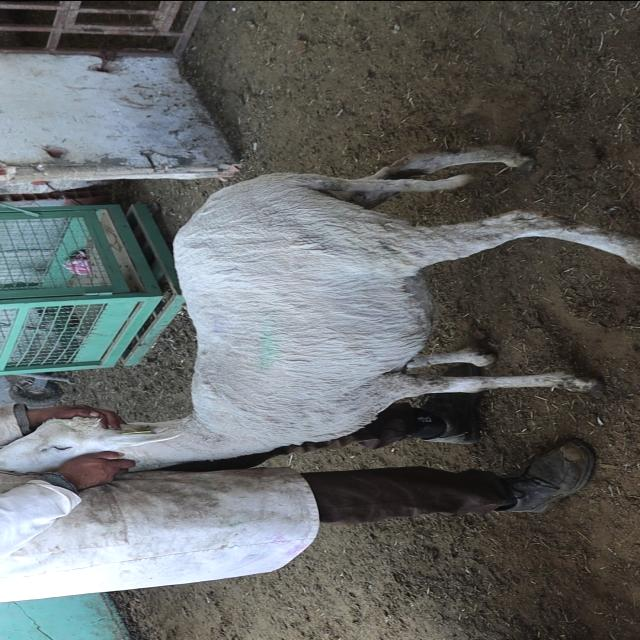Score_4: (0, 146, 639, 472)
